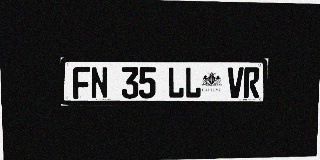3: (121, 67, 138, 99)
5: (139, 67, 156, 99)
F: (73, 67, 90, 99)
L: (168, 67, 184, 98), (185, 67, 201, 98)
N: (91, 67, 108, 99)
R: (244, 67, 260, 98)
V: (227, 67, 244, 98)
